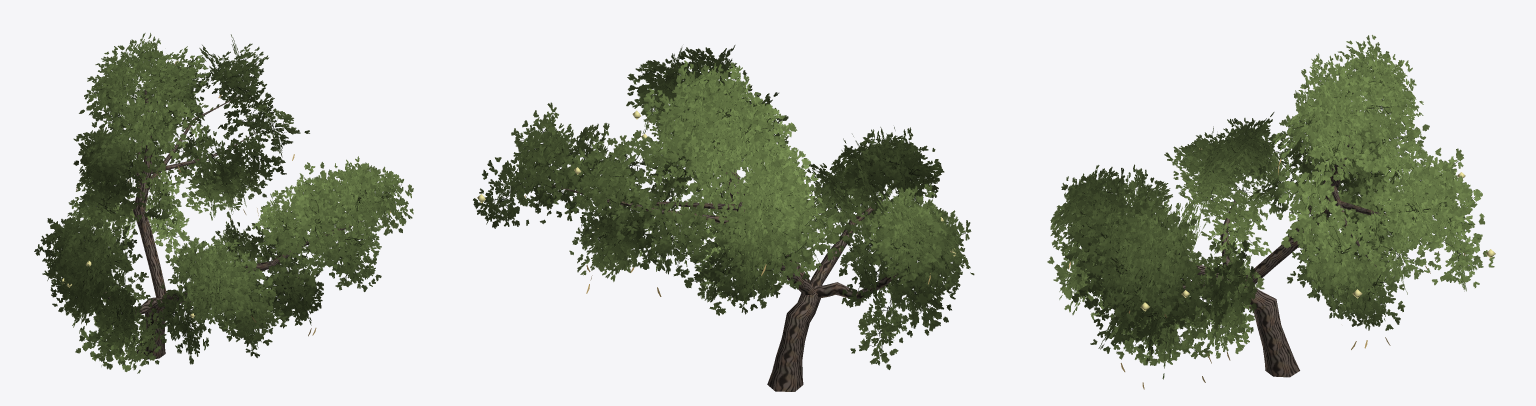
Rendered from adult-c.lod1.glb.
3 renders of one model, left to right at view 1: azimuth 30°, elevation 25°; view 2: azimuth 150°, elevation 25°; view 3: azimuth 270°, elevation 25°, orthographic. The views are drawn at different scales.
Visible parts, largest first — view 1: foliage, bark; view 2: foliage, bark; view 3: foliage, bark.
Boxes of the visible parts, <box> form: foliage: <box>34,33,413,373</box>; bark: <box>103,90,361,359</box>; foliage: <box>473,45,974,369</box>; bark: <box>552,147,897,391</box>; foliage: <box>1047,35,1494,379</box>; bark: <box>1182,110,1421,377</box>.
Bounding box in the file's own units: 9.45 × 7.5 × 9.4.
4 materials, 3 textured.
